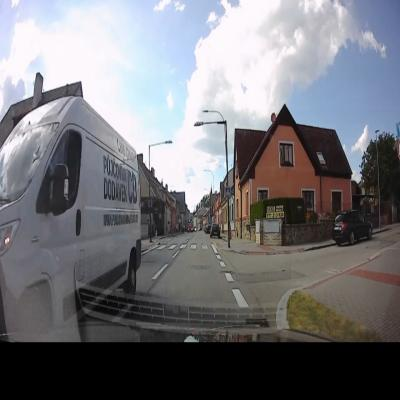clear-road: (137, 228, 400, 307)
